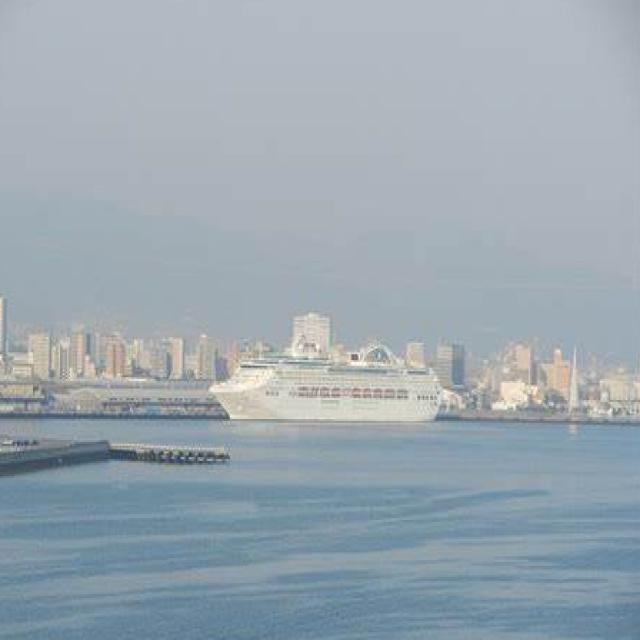passenger ship: (220, 338, 448, 431)
